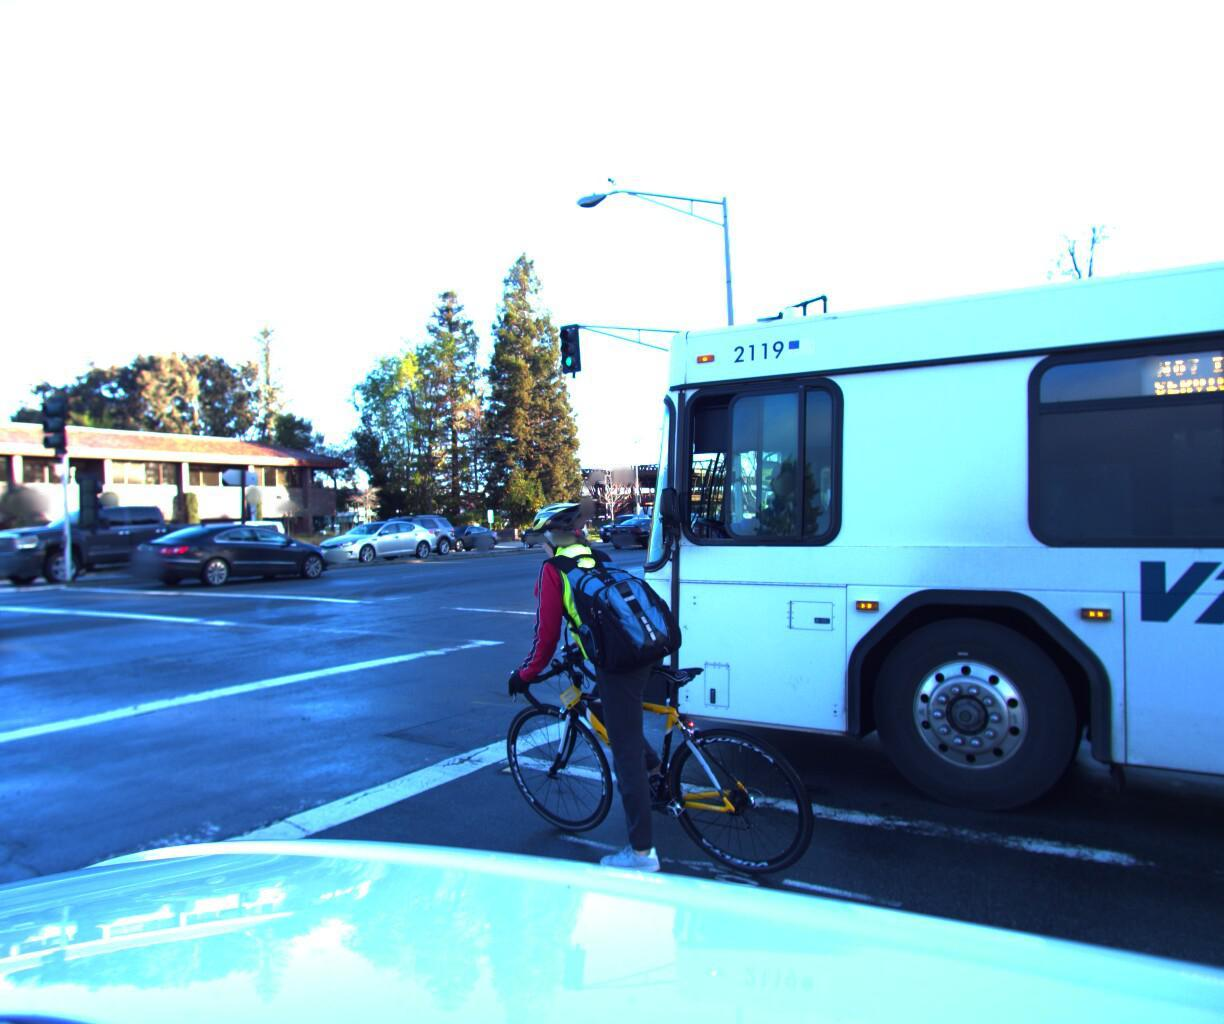bicycle: (392, 473, 817, 960)
car: (0, 503, 246, 592), (127, 519, 346, 590), (147, 513, 297, 568), (302, 515, 442, 569), (341, 510, 460, 561), (0, 532, 25, 711), (604, 511, 686, 547), (515, 511, 590, 547), (421, 522, 502, 553), (595, 511, 658, 543)
